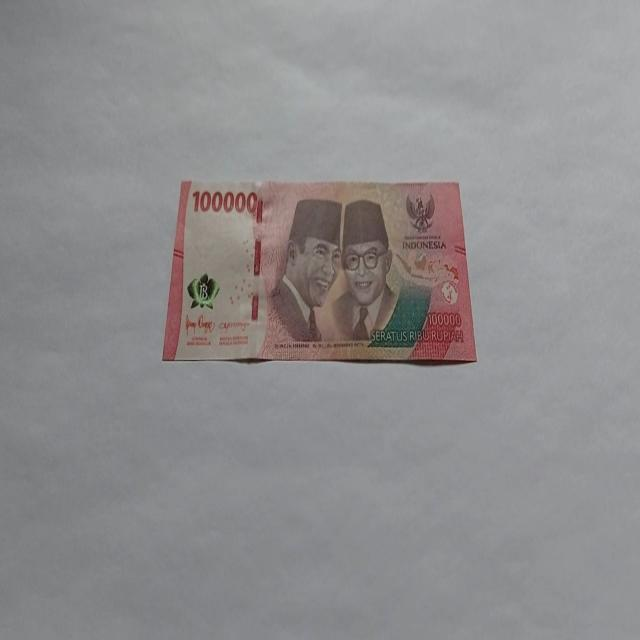seratus ribu rupiah: (162, 176, 478, 364), (262, 196, 343, 354)
